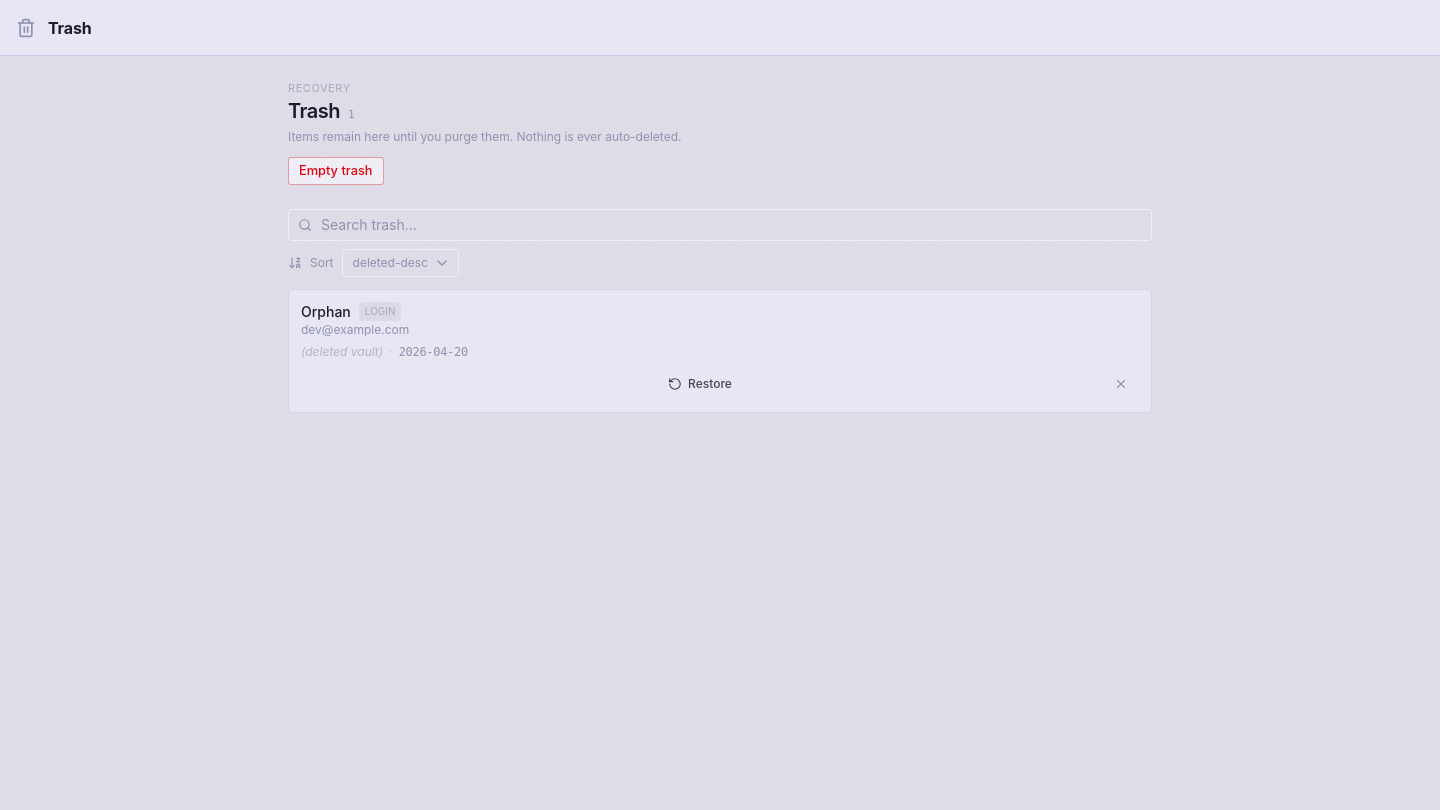
TrashPage › restore confirmation surfaces "deleted vault" wording when source vault is missing
What coordinates should you click on to do the following:
click the button with aria-label "Restore Orphan"
I would click on:
 (700, 384)
Its box is [301,368,1099,400].
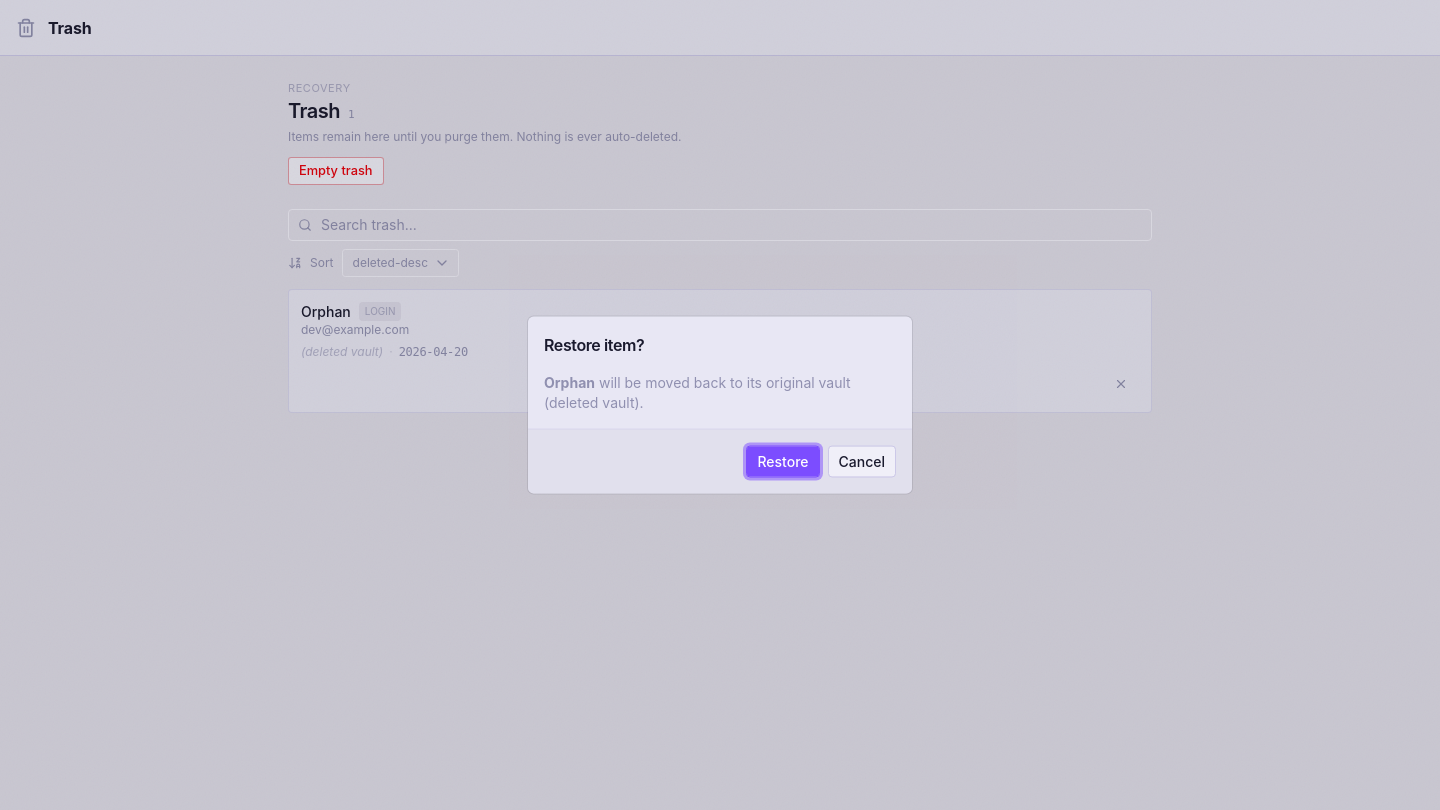
Check: the text "deleted vault" is shown, box [549,394,634,410]
